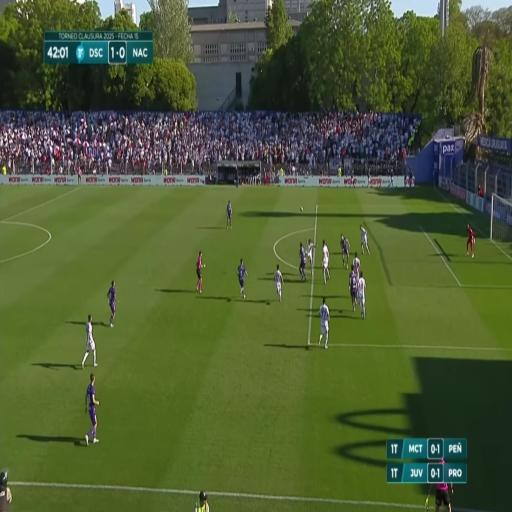Ball: (300, 203, 305, 214)
Goalkeeper: (463, 218, 477, 262)
Player: (82, 374, 102, 452), (83, 309, 97, 369), (317, 296, 331, 351), (320, 234, 333, 290), (106, 278, 117, 330), (304, 235, 316, 281), (360, 270, 369, 324), (273, 259, 284, 301), (296, 240, 306, 284), (352, 246, 360, 298), (340, 230, 350, 268), (238, 256, 246, 302), (359, 220, 369, 254), (350, 265, 356, 313), (226, 196, 232, 230)
Referee: (194, 245, 208, 298)
